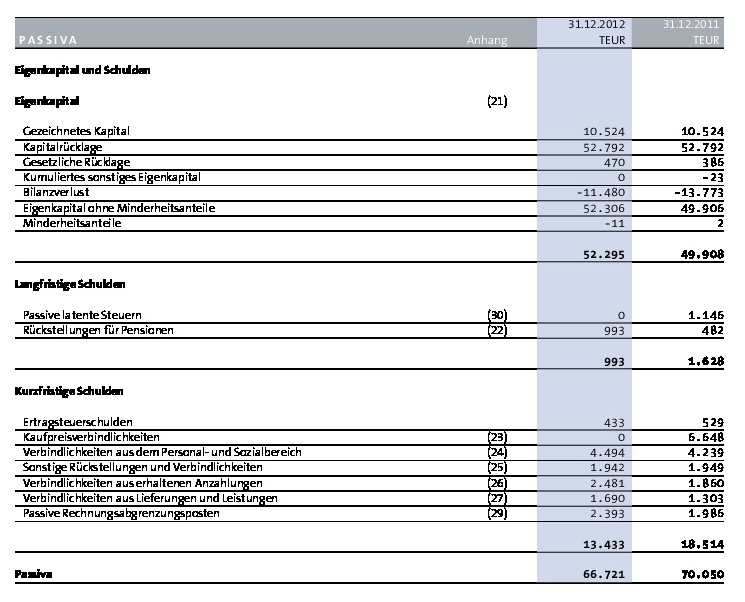table: (0, 0, 745, 602)
